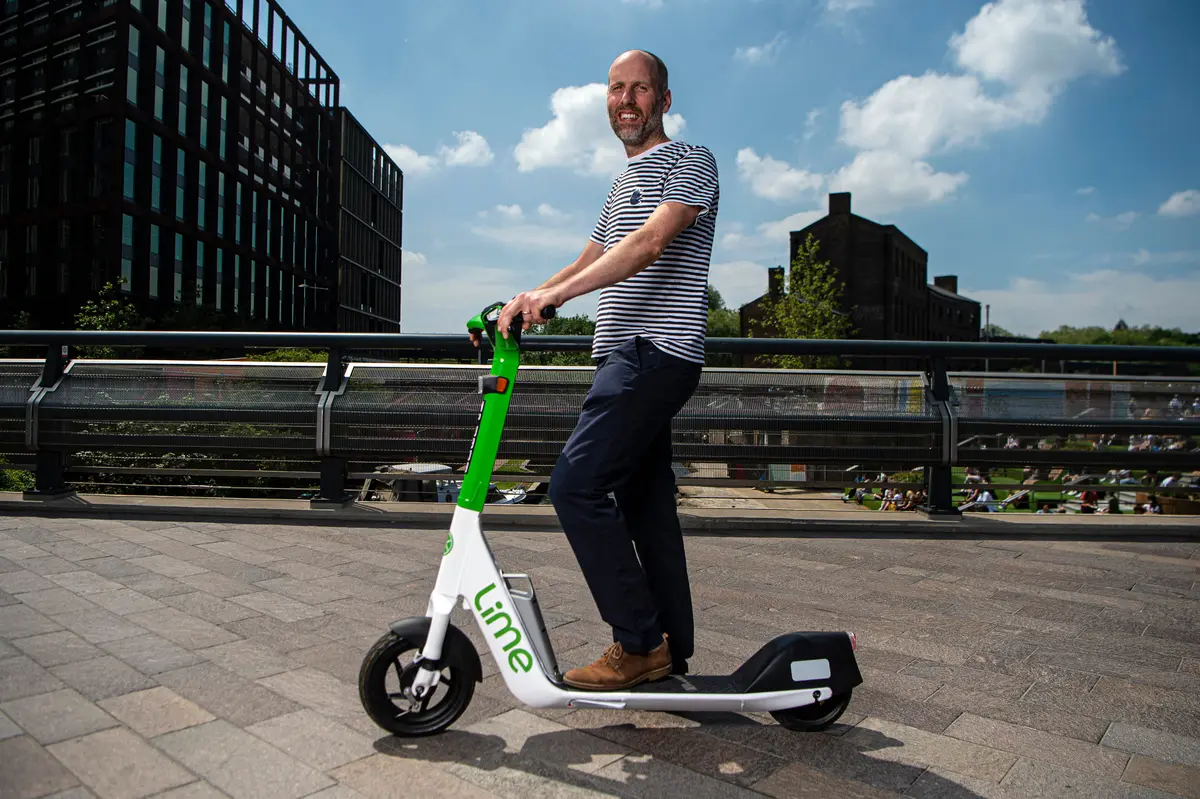scooter: (362, 302, 860, 736)
